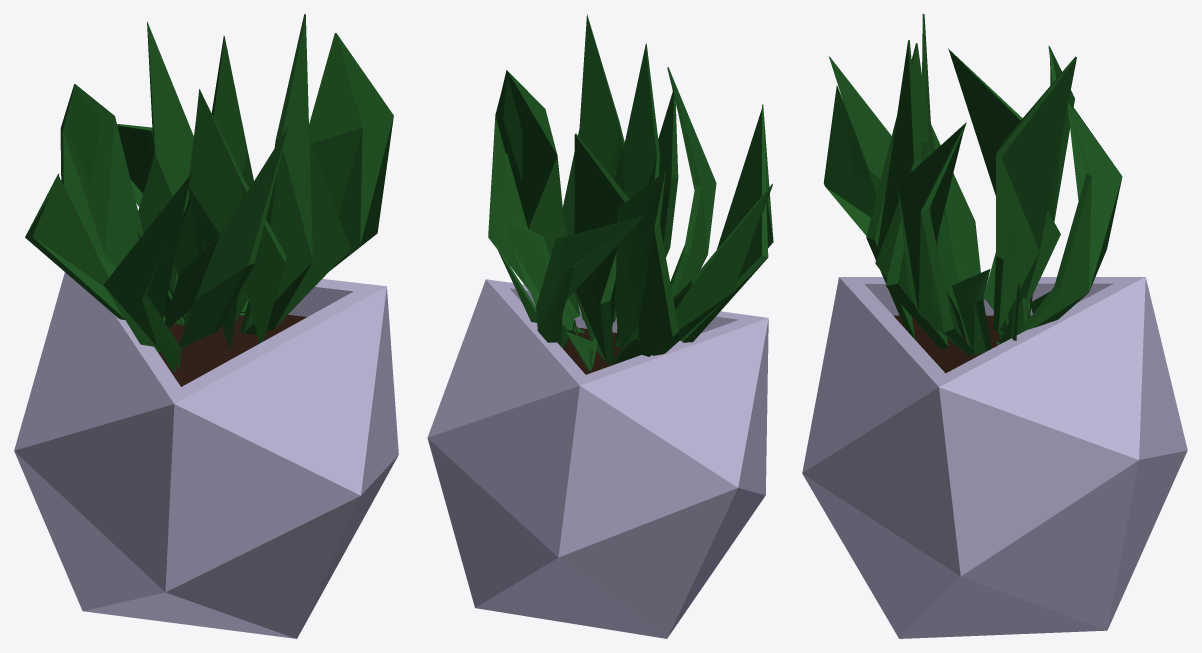
Rendered from plant6.fbx.
3 renders of one model, left to right at view 1: azimuth 30°, elevation 25°; view 2: azimuth 150°, elevation 25°; view 3: azimuth 270°, elevation 25°, orthographic. The views are drawn at different scales.
Visible parts, largest first — view 1: Cylinder.000; view 2: Cylinder.000; view 3: Cylinder.000.
Boxes of the visible parts, x1,y1,x2,y2 form: Cylinder.000: (14,14,398,638); Cylinder.000: (427,14,773,638); Cylinder.000: (802,14,1187,638).
Size of the model in its own units: 58.27 by 98.38 by 56.81.
